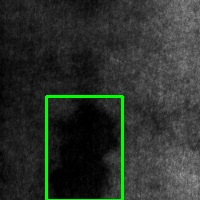patches: (46, 96, 122, 200)
